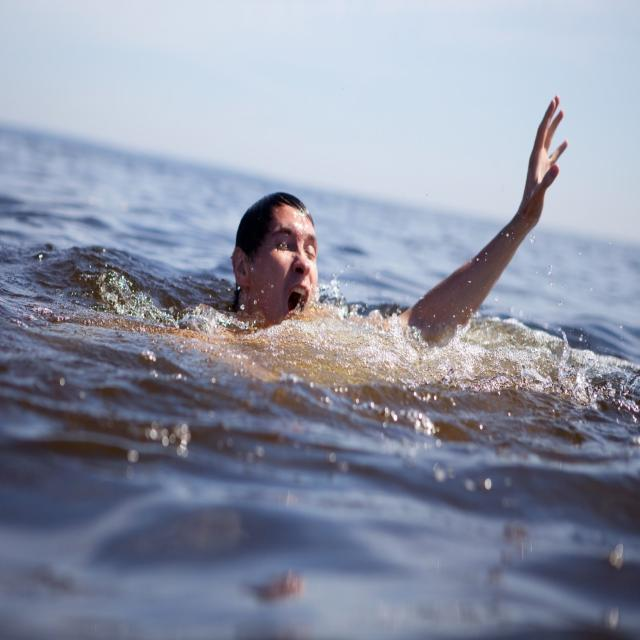drowning: (25, 59, 588, 538)
